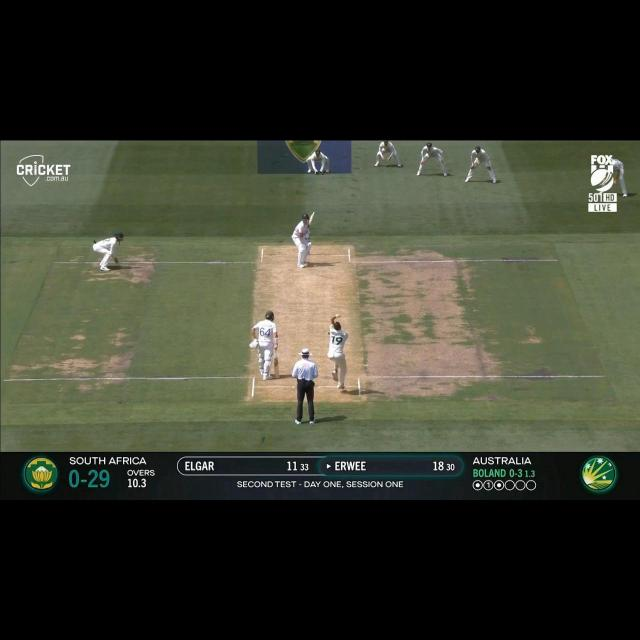bat: (273, 357, 281, 380), (307, 211, 315, 226)
toe: (273, 374, 281, 380), (311, 211, 315, 216)
